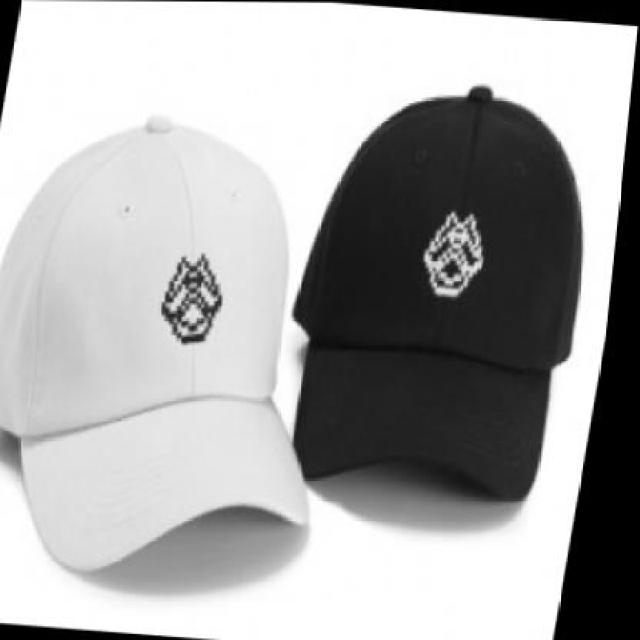hat: (0, 100, 383, 589), (272, 70, 622, 504)
